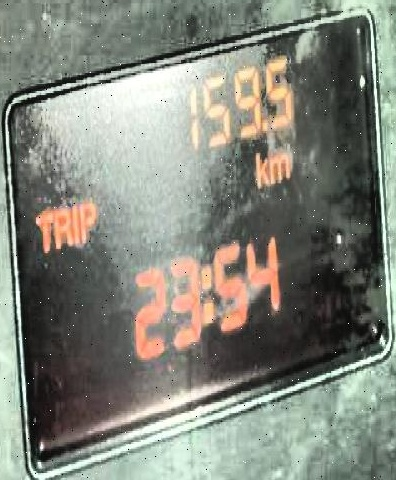-: (258, 115, 267, 133)
1: (186, 77, 201, 150)
2: (132, 262, 163, 360)
3: (168, 255, 199, 348)
4: (247, 231, 279, 313)
5: (213, 237, 244, 333), (201, 69, 230, 151), (264, 51, 292, 129)
9: (232, 62, 261, 140)
X: (200, 259, 213, 326), (52, 206, 71, 246), (78, 197, 94, 244), (35, 208, 51, 253), (253, 144, 268, 188), (268, 151, 289, 182), (69, 200, 77, 242)
